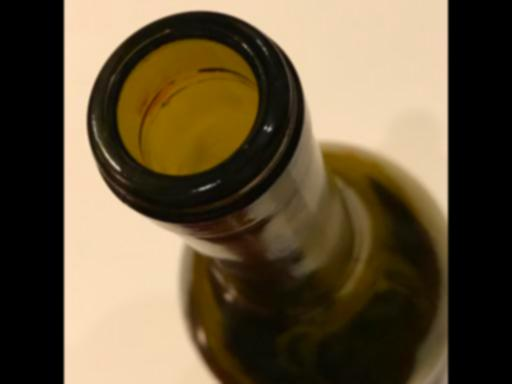alcohol: (85, 9, 447, 384)
glass: (85, 9, 447, 384)
sodocalcique: (85, 9, 447, 384)
